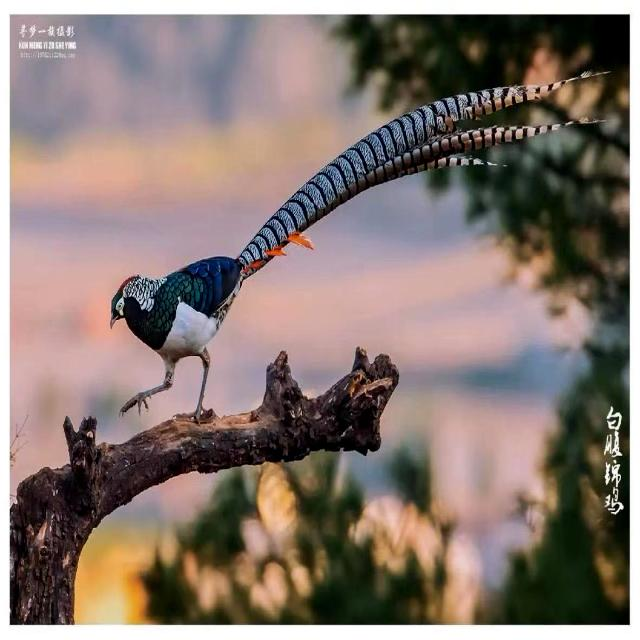Chrysolophus amherstiae: (240, 74, 595, 265)
